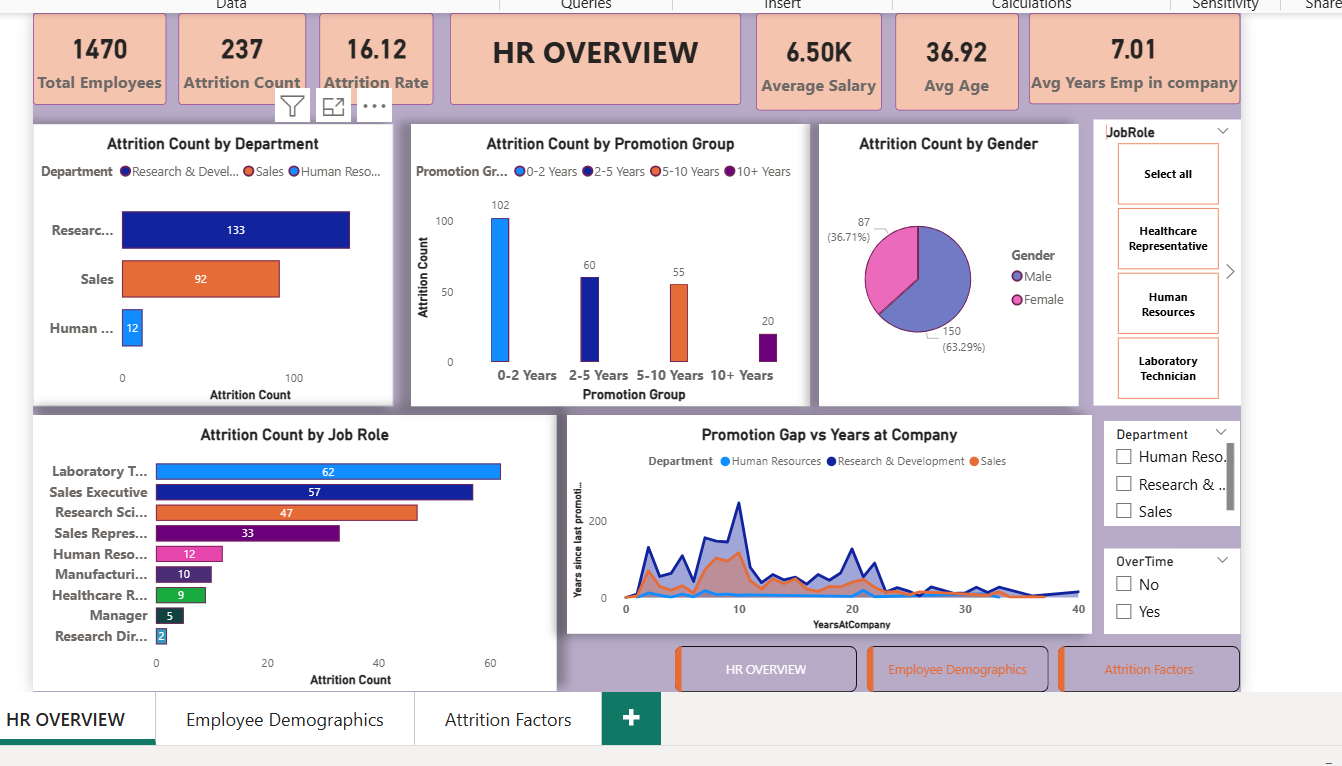

The dashboard page shown, as its layout file describes it:
{"tool":"powerbi","page":{"name":"HR OVERVIEW","canvas":[1280,720],"ordinal":0},"visuals":[{"type":"textbox","box":[442.2,0,308.6,97],"z":0},{"type":"card","fields":{"Values":["Fact-Employee.Total Employees"]},"box":[0,0,141.6,97],"z":1000},{"type":"card","fields":{"Values":["Dim-Department.Attrition Count"]},"box":[154.3,0,135.2,97],"z":2000},{"type":"card","fields":{"Values":["Fact-Employee.Attrition Rate"]},"box":[303.8,0,120.9,97],"z":3000},{"type":"card","fields":{"Values":["Fact-Employee.Average Salary"]},"box":[766.7,0,133.6,103.4],"z":4000},{"type":"card","fields":{"Values":["Fact-Employee.Avg Years Emp in company"]},"box":[1055.6,0,223.8,96.8],"z":5000},{"type":"card","fields":{"Values":["Fact-Employee.Avg Age"]},"box":[914.6,0,130.4,103.4],"z":6000},{"type":"barChart","title":"Attrition Count by Department","fields":{"Category":["Dim-Department.Department"],"Y":["Dim-Department.Attrition Count"],"Series":["Dim-Department.Department"]},"box":[0,117.7,381.7,299],"z":7000},{"type":"barChart","title":"Attrition Count by Job Role","fields":{"Category":["Dim-Department.JobRole"],"Y":["Dim-Department.Attrition Count"],"Series":["Dim-Department.JobRole"]},"box":[0,426.3,555.1,292.7],"z":8000},{"type":"clusteredColumnChart","title":"Attrition Count by Promotion Group ","fields":{"Y":["Dim-Department.Attrition Count"],"Category":["Fact-Employee.Promotion Group"],"Series":["Fact-Employee.Promotion Group"]},"box":[400.8,117.7,423.1,299],"z":9000},{"type":"pageNavigator","box":[680.8,671.2,599.7,49.3],"z":10000},{"type":"slicer","fields":{"Values":["Dim-Department.JobRole"]},"box":[1124.2,112.9,156.5,303.2],"z":11000},{"type":"slicer","fields":{"Values":["Dim-Department.Department"]},"box":[1135.7,432.6,143.2,111.3],"z":12000},{"type":"slicer","fields":{"Values":["Dim-Department.OverTime"]},"box":[1135.7,567.8,144.7,90.7],"z":13000},{"type":"pieChart","fields":{"Category":["Dim-Employee.Gender"],"Y":["Dim-Department.Attrition Count"]},"box":[833.5,117.7,275.2,299],"z":14000},{"type":"lineChart","title":"Promotion Gap vs Years at Company ","fields":{"Category":["Fact-Employee.YearsAtCompany"],"Y":["Sum(Fact-Employee.YearsSinceLastPromotion)"],"Series":["Dim-Department.Department"]},"box":[566.3,426.3,556.7,232.2],"z":15000}]}

Visuals, with their boxes on the page's 1280x720 design canvas (x1, y1, x2, y2). These are canvas units, not pixel positions in the 1342x766 screenshot, which may show the page scaled, cropped or inside an application window:
textbox: crop(442, 0, 751, 97)
card - Fact-Employee.Total Employees: crop(0, 0, 142, 97)
card - Dim-Department.Attrition Count: crop(154, 0, 290, 97)
card - Fact-Employee.Attrition Rate: crop(304, 0, 425, 97)
card - Fact-Employee.Average Salary: crop(767, 0, 900, 103)
card - Fact-Employee.Avg Years Emp in company: crop(1056, 0, 1279, 97)
card - Fact-Employee.Avg Age: crop(915, 0, 1045, 103)
"Attrition Count by Department" barChart: crop(0, 118, 382, 417)
"Attrition Count by Job Role" barChart: crop(0, 426, 555, 719)
"Attrition Count by Promotion Group " clusteredColumnChart: crop(401, 118, 824, 417)
pageNavigator: crop(681, 671, 1280, 720)
slicer - Dim-Department.JobRole: crop(1124, 113, 1281, 416)
slicer - Dim-Department.Department: crop(1136, 433, 1279, 544)
slicer - Dim-Department.OverTime: crop(1136, 568, 1280, 658)
pieChart - Dim-Employee.Gender x Dim-Department.Attrition Count: crop(834, 118, 1109, 417)
"Promotion Gap vs Years at Company " lineChart: crop(566, 426, 1123, 658)
